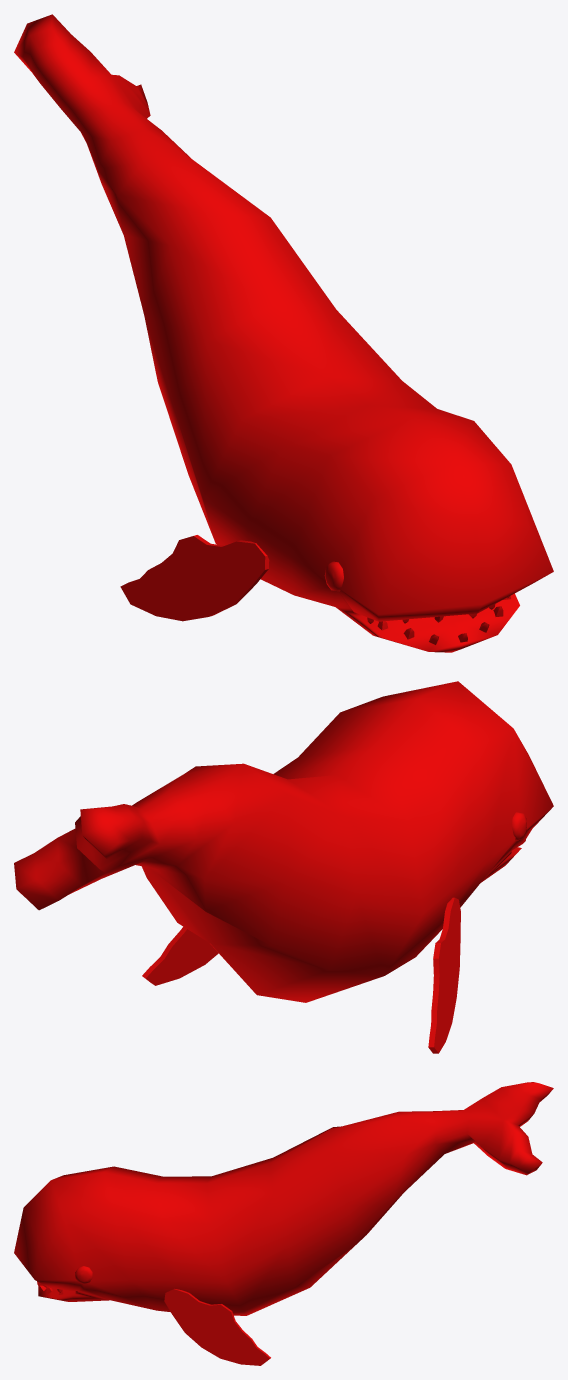
The picture shows the model from 3 angles, top to bottom: view 1: azimuth 30°, elevation 25°; view 2: azimuth 150°, elevation 25°; view 3: azimuth 270°, elevation 25°; orthographic projection. The views are drawn at different scales.
Parts seen in each view (by area): view 1: Fish_Livyatan; view 2: Fish_Livyatan; view 3: Fish_Livyatan.
Boxes of the visible parts, left/top/right/bottom form: Fish_Livyatan: left=14, top=14, right=553, bottom=652; Fish_Livyatan: left=14, top=681, right=553, bottom=1053; Fish_Livyatan: left=14, top=1082, right=553, bottom=1365.
Size of the model in its own units: 1.01 by 1.23 by 2.52.
